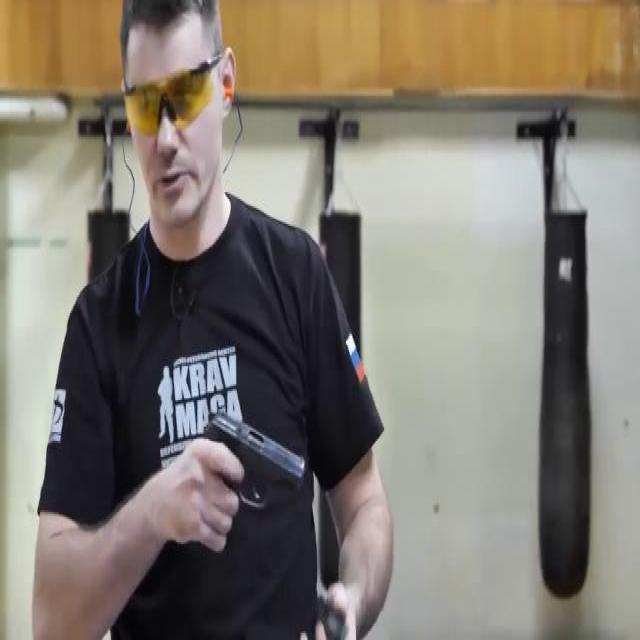pistol: (203, 409, 304, 530)
